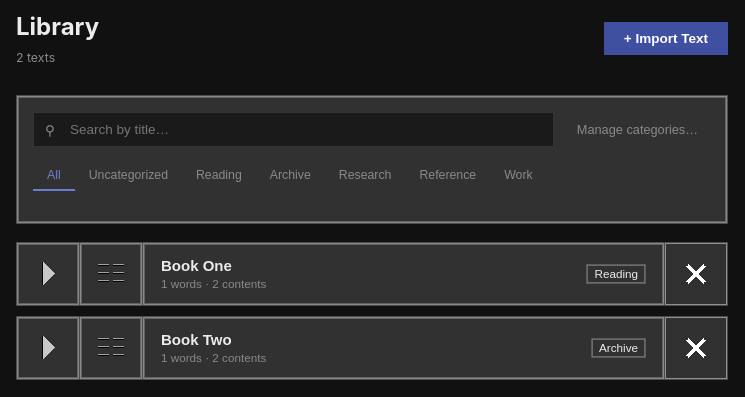
Test: Library category filter toolbar › shows the result count on the tab row when a category filter is active
Click the tab "Reading": (219, 176) [182,161,256,191]
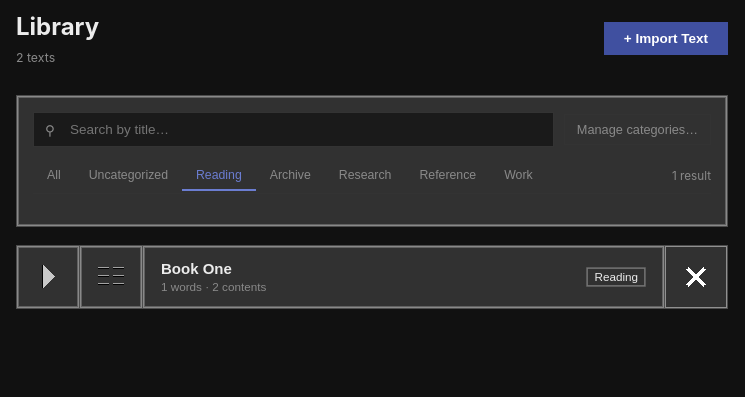
expect the element that starts with "All" is shown: met, box [33,161,711,194]
expect the message reads "1 result": met, box [672,169,711,183]
